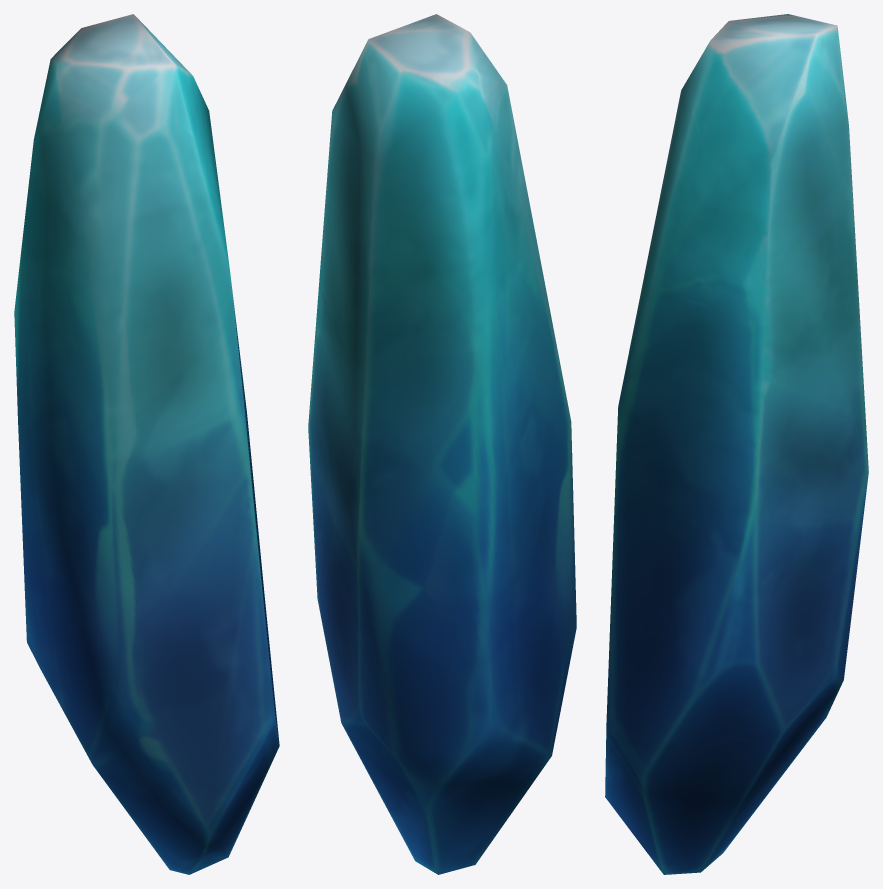
Rendered from SM_Gem_IceCrystal_003.fbx.
3 views of the same model, side by side, from view 1: azimuth 30°, elevation 25°; view 2: azimuth 150°, elevation 25°; view 3: azimuth 270°, elevation 25° (orthographic). The views are drawn at different scales.
Visible parts, largest first — view 1: SM_Gem_IceCrystal_003; view 2: SM_Gem_IceCrystal_003; view 3: SM_Gem_IceCrystal_003.
Part boxes in pixels (bbox=[...]): SM_Gem_IceCrystal_003: bbox=[14, 14, 279, 874]; SM_Gem_IceCrystal_003: bbox=[308, 14, 576, 874]; SM_Gem_IceCrystal_003: bbox=[605, 14, 868, 874].
Bounding box in the file's own units: 16.46 × 62.6 × 17.92.
